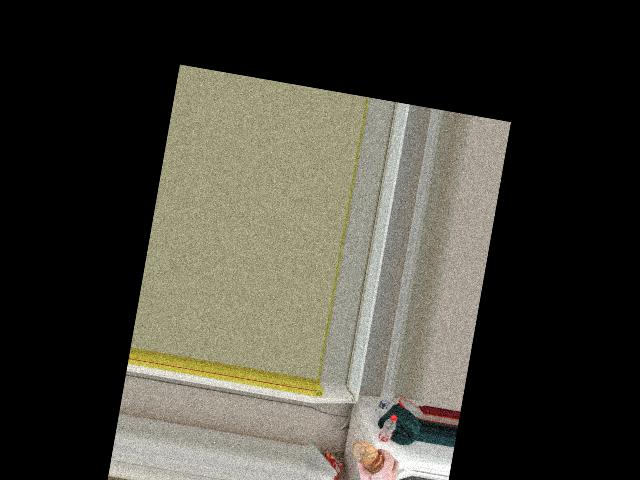sweet_potato: (349, 438, 384, 474)
